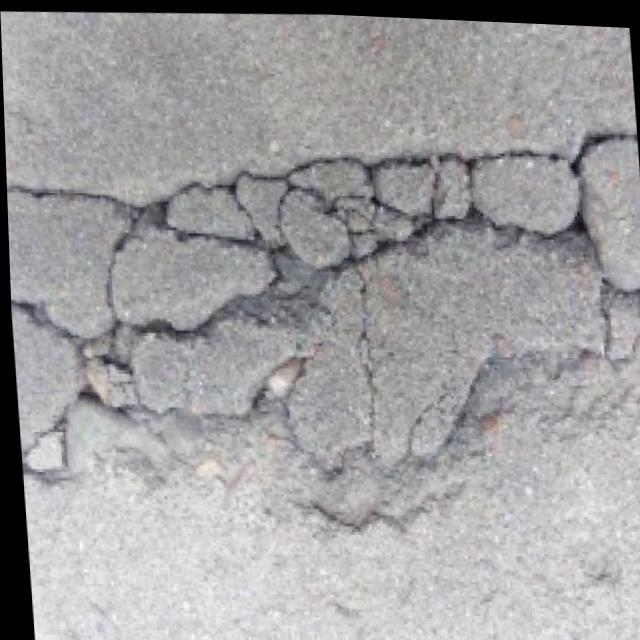Crack: (3, 109, 640, 543)
